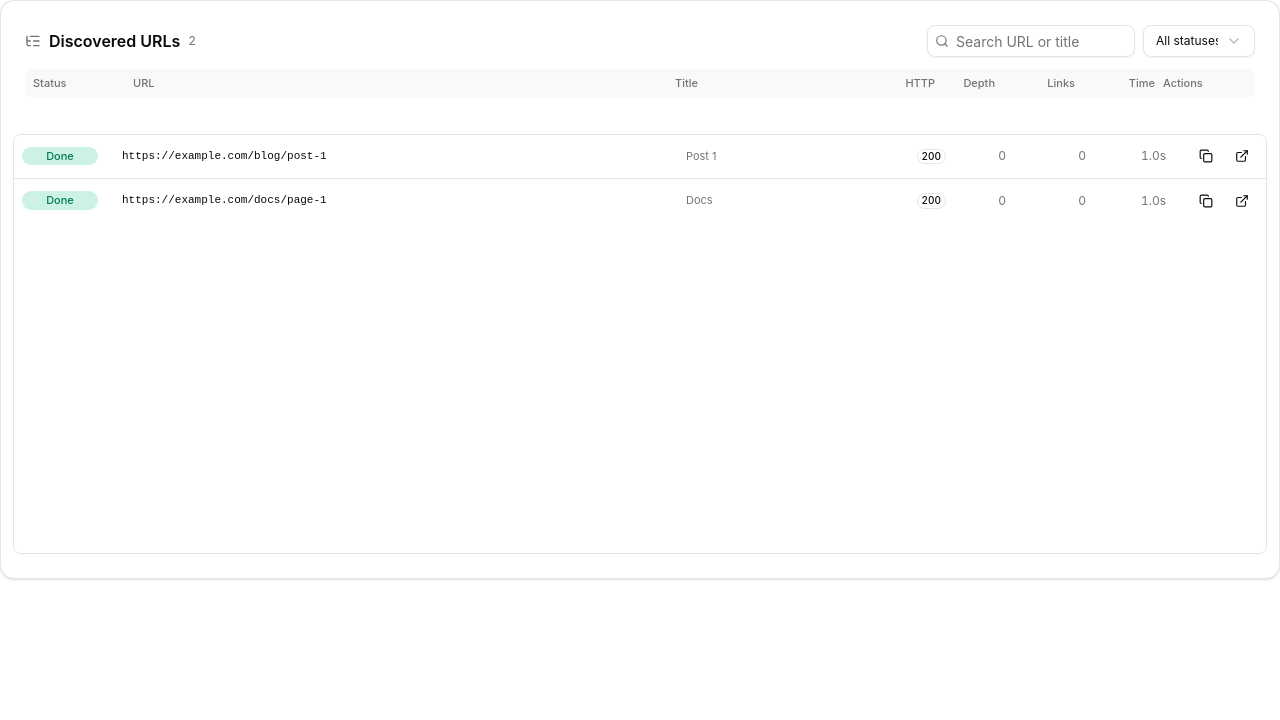
Test: UrlList › filters by search keyword / 依關鍵字篩選
Type "blog" into the field with placeholder "Search URL or title" at (1031, 41), box [927,25,1135,57]
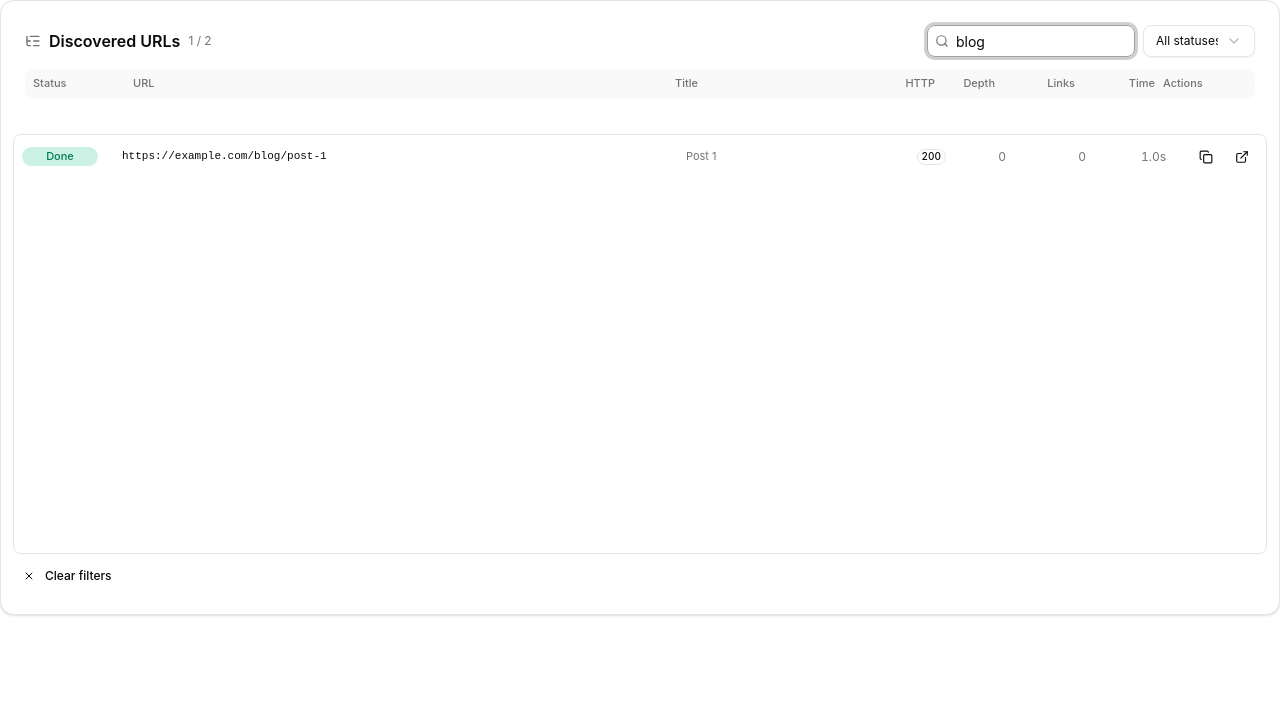
Check: the link "https://example.com/blog/post-1" is shown, box [122,149,327,164]
Check: the link "https://example.com/docs/page-1" is gone
